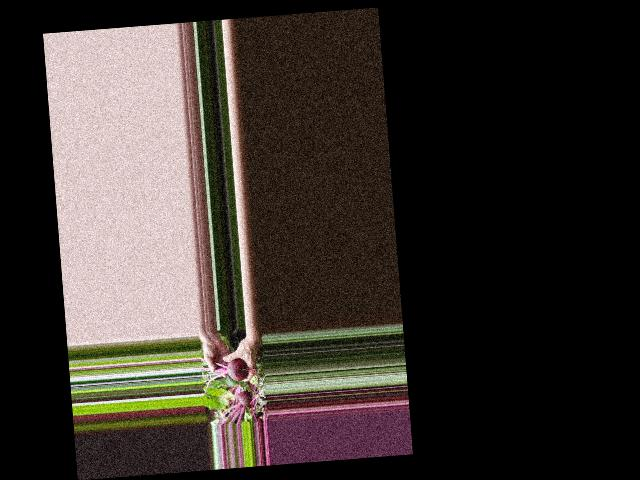beet: (201, 356, 250, 396)
